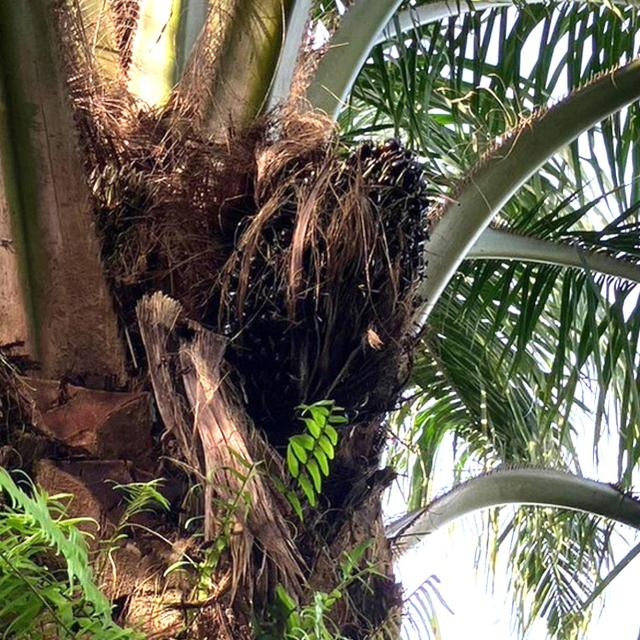unripe: (242, 137, 424, 410)
